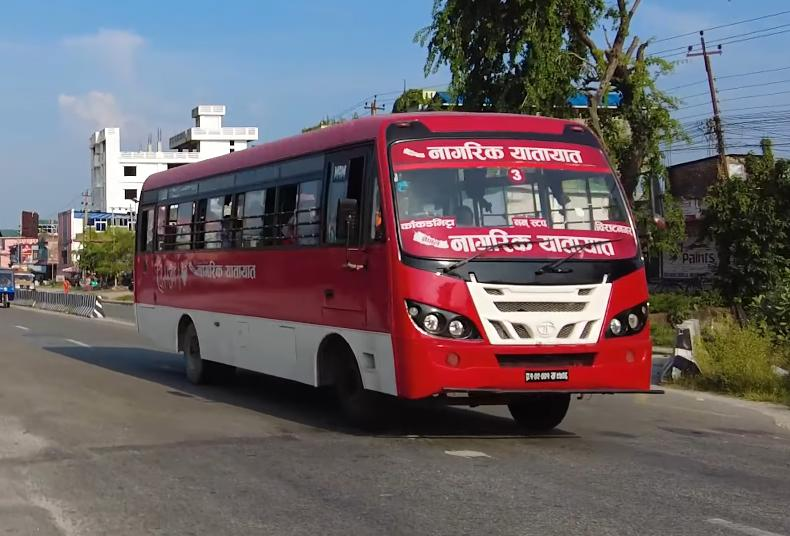bus: (127, 101, 664, 427)
